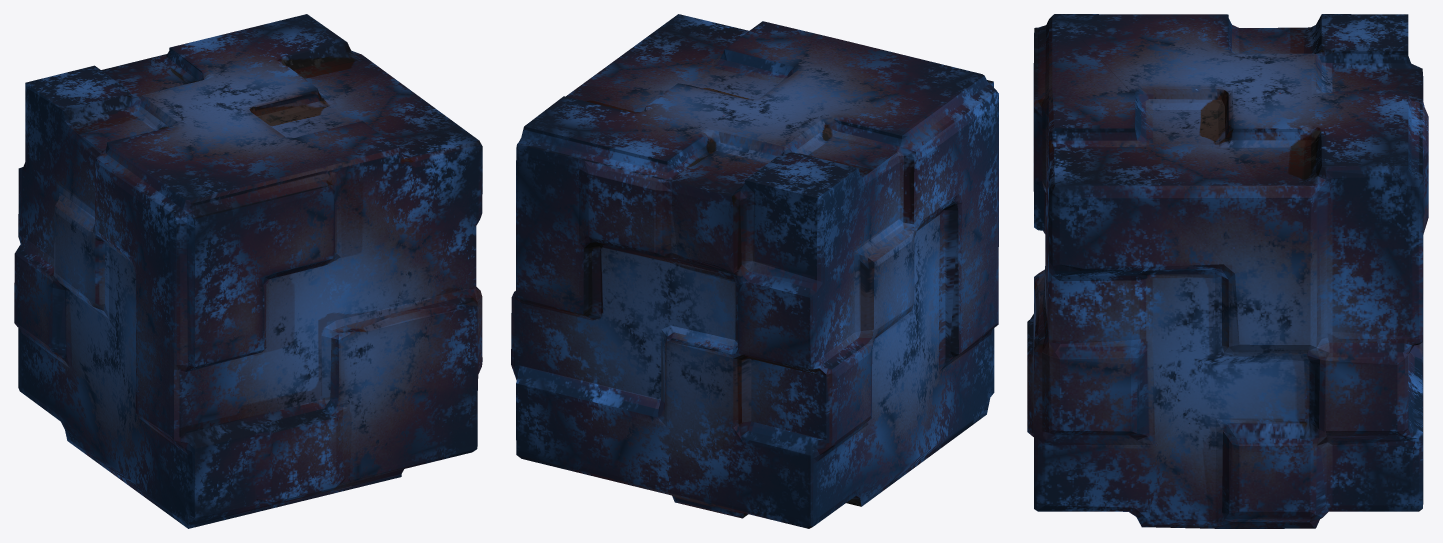
File: Box_Brimstone 3 rotations.fbx
3 views of the same model, side by side, from view 1: azimuth 30°, elevation 25°; view 2: azimuth 150°, elevation 25°; view 3: azimuth 270°, elevation 25° (orthographic). The views are drawn at different scales.
Parts seen in each view (by area): view 1: Box Brimstone FINAL; view 2: Box Brimstone FINAL; view 3: Box Brimstone FINAL.
Part boxes in pixels (x1,y1,x2,y2): Box Brimstone FINAL: [14, 14, 482, 528]; Box Brimstone FINAL: [511, 14, 998, 528]; Box Brimstone FINAL: [1027, 14, 1428, 528].
Size of the model in its own units: 2 by 2 by 2.
